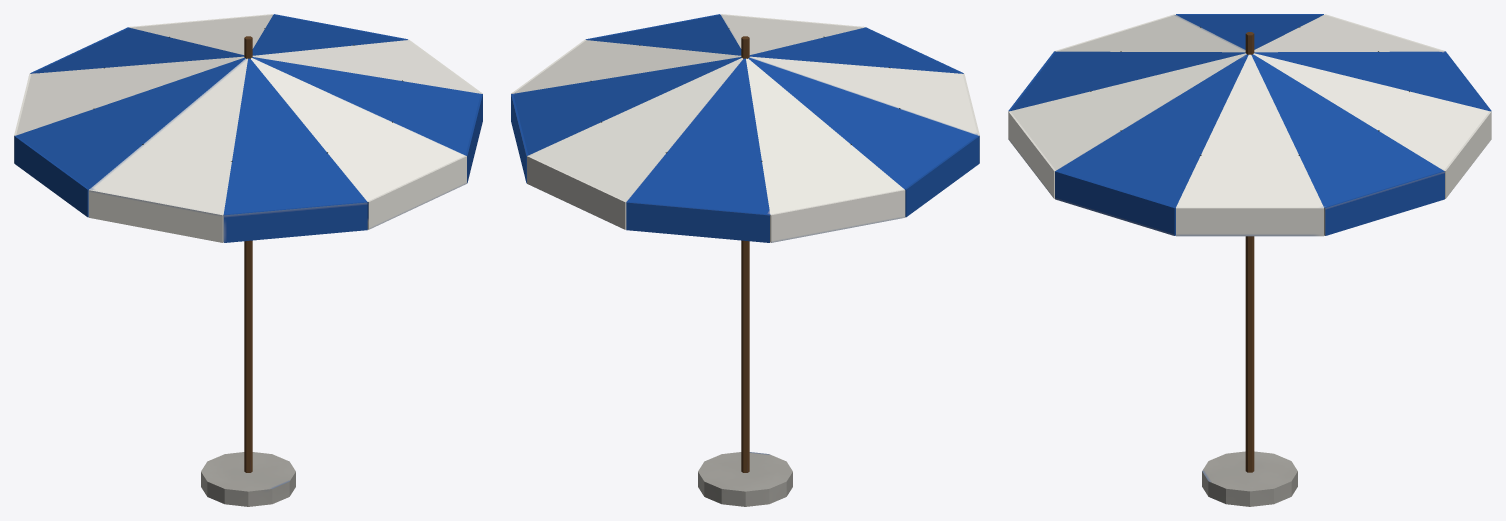
File: slunecnik_fbb46815.glb
3 renders of one model, left to right at view 1: azimuth 30°, elevation 25°; view 2: azimuth 150°, elevation 25°; view 3: azimuth 270°, elevation 25°, orthographic.
Parts seen in each view (by area): view 1: dum; view 2: dum; view 3: dum.
Part boxes in pixels (x1,y1,x2,y2): dum: [14, 14, 482, 506]; dum: [511, 14, 979, 506]; dum: [1008, 14, 1491, 506].
Size of the model in its own units: 2.68 by 2.91 by 2.82.
1 material, 1 textured.
